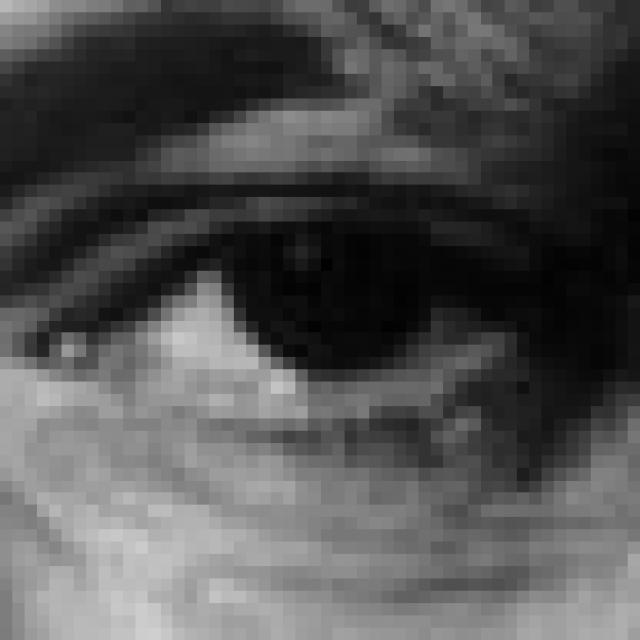eye: (9, 111, 622, 522)
gaze: (205, 208, 445, 382)
